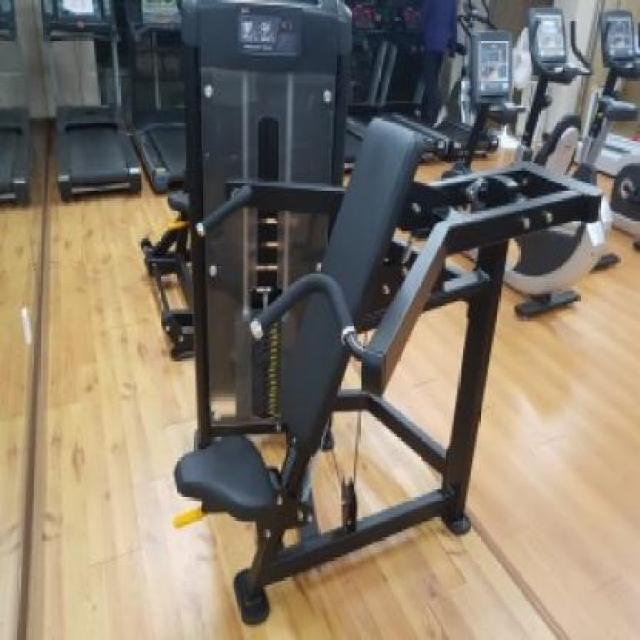Chest Press machine: (150, 0, 602, 623)
